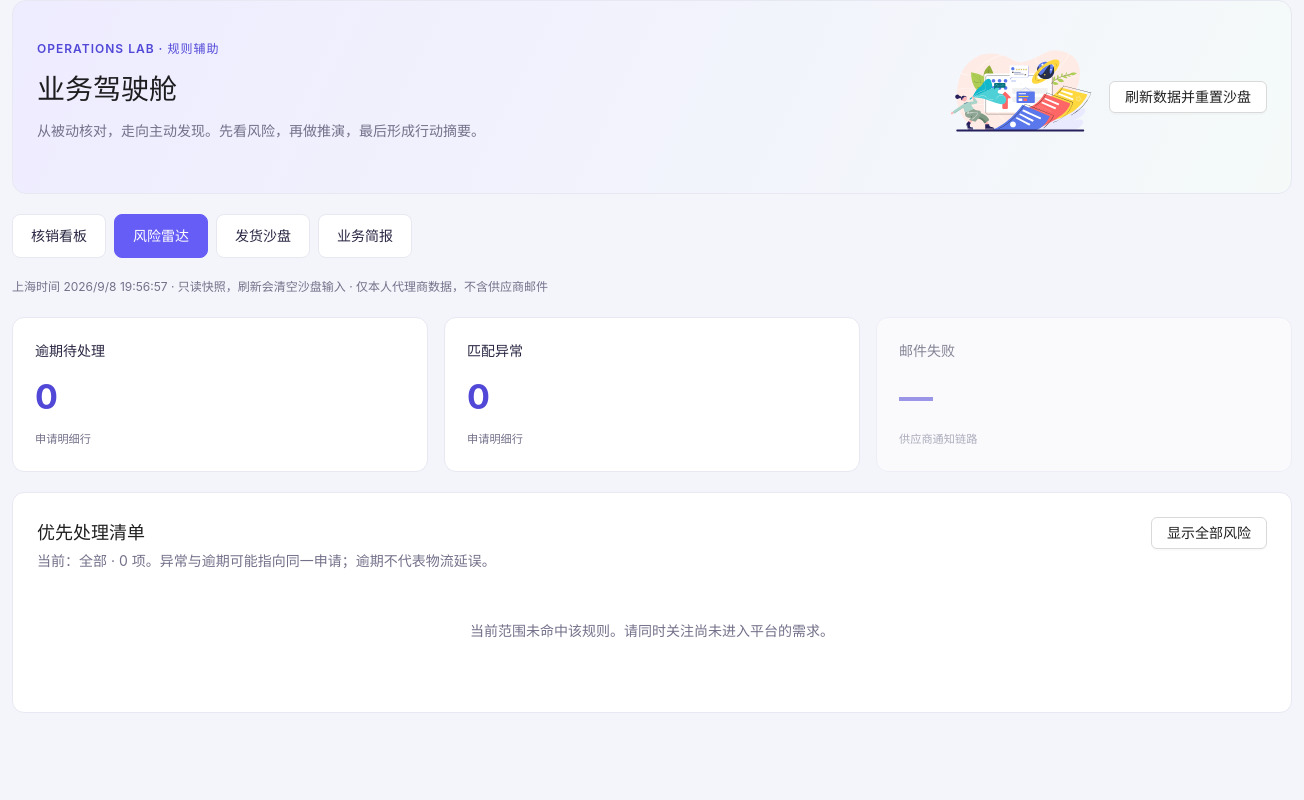
Test: 业务驾驶舱 › never fetches supplier mail as dealer and explains report scope
This screenshot has width=1304, height=800.
Click the button "业务简报".
click(365, 236)  # box [318, 214, 412, 258]
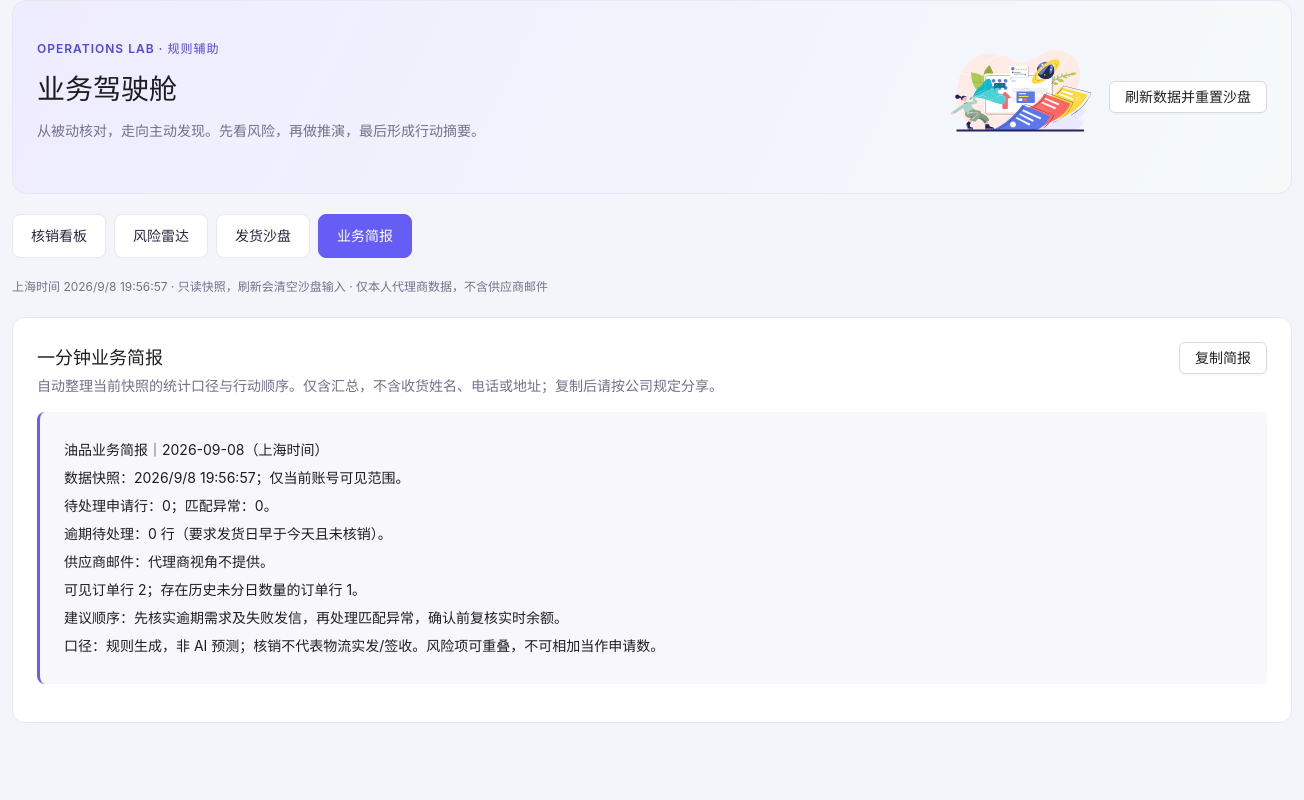
Check: the text "代理商视角不提供" is shown, box [64, 441, 664, 654]
Check: the text "历史未分日数量的订单行 1" is shown, box [64, 441, 664, 654]
